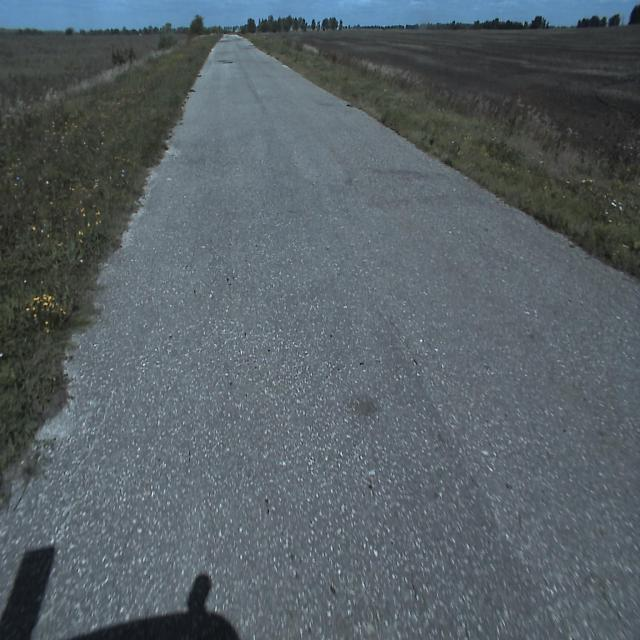road: (0, 35, 640, 639)
